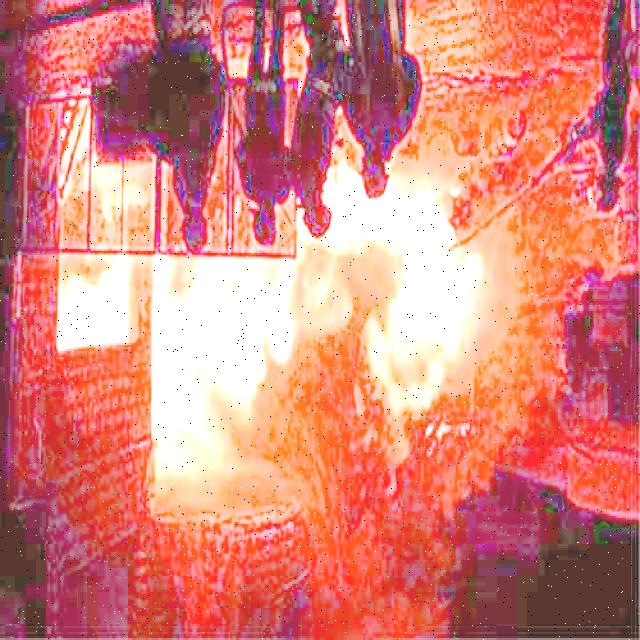api: (299, 178, 485, 394), (151, 263, 293, 501), (60, 245, 132, 352)
asap: (488, 188, 618, 447), (408, 93, 583, 168)
